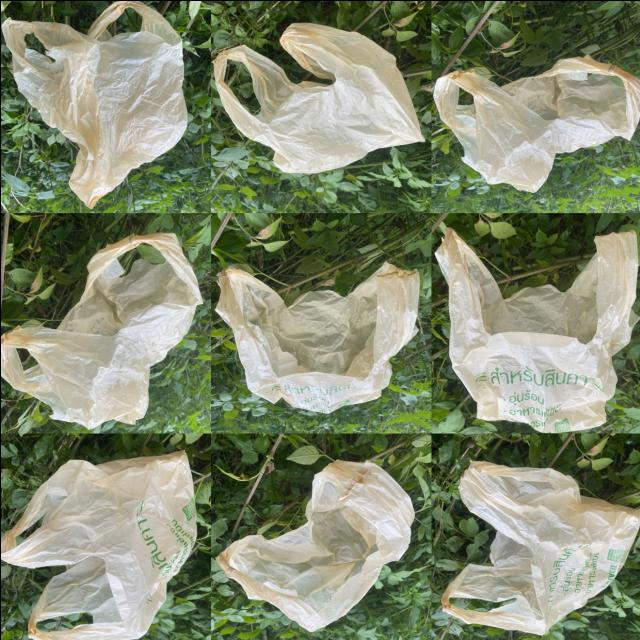plastik: (434, 227, 637, 431), (0, 232, 201, 428), (1, 0, 186, 207), (0, 450, 195, 640), (440, 460, 640, 634), (216, 459, 413, 631), (213, 22, 422, 173), (216, 262, 418, 413), (433, 55, 640, 192)
